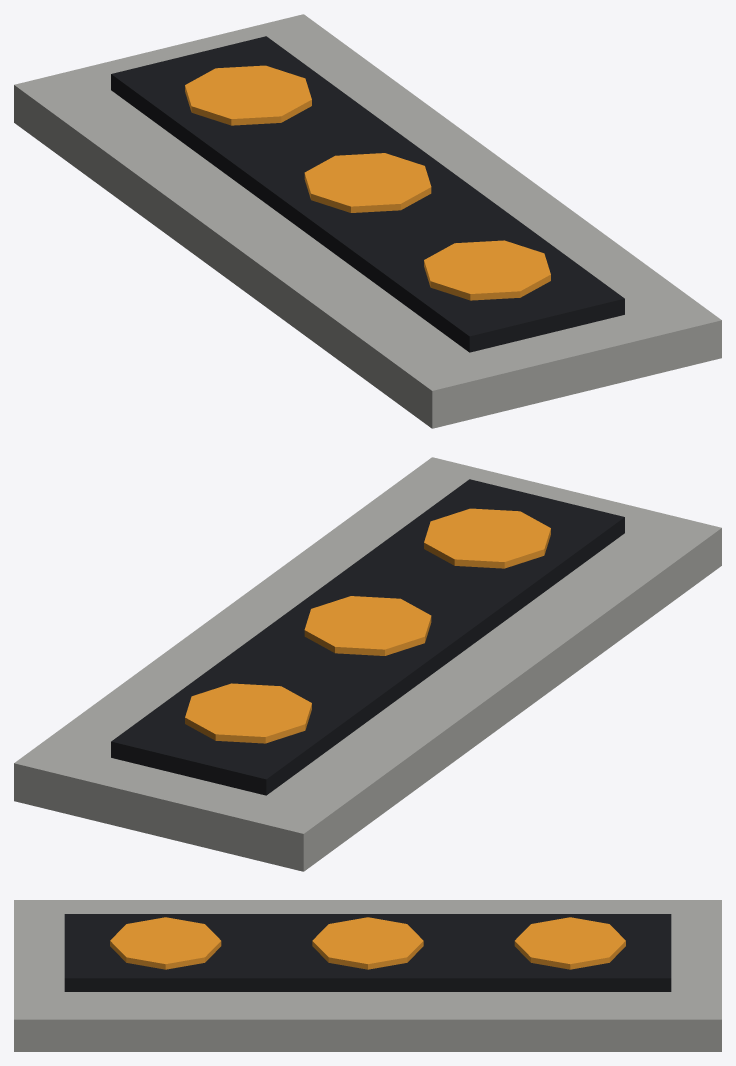
The model's file is civilian_windows.glb.
The picture shows the model from 3 angles, top to bottom: view 1: azimuth 30°, elevation 25°; view 2: azimuth 150°, elevation 25°; view 3: azimuth 270°, elevation 25°; orthographic projection. The views are drawn at different scales.
Bounding box in the file's own units: 0.28 × 0.056 × 0.7.
